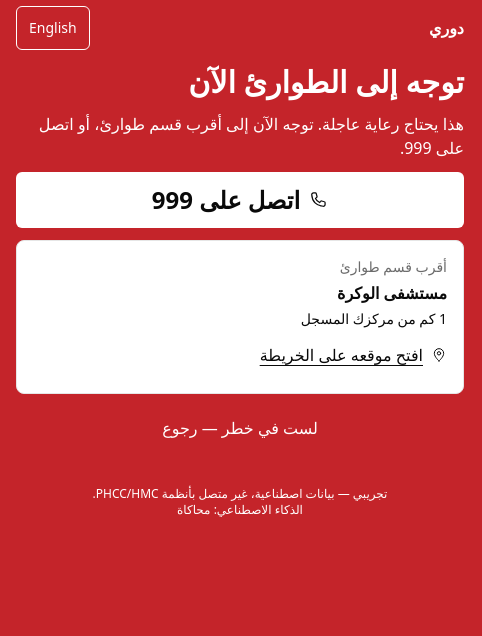
S06 emergency › keeps a failed override on the screen with a retry
Click the button with test id "emergency-override".
click(240, 428)  # box [16,406,464,450]
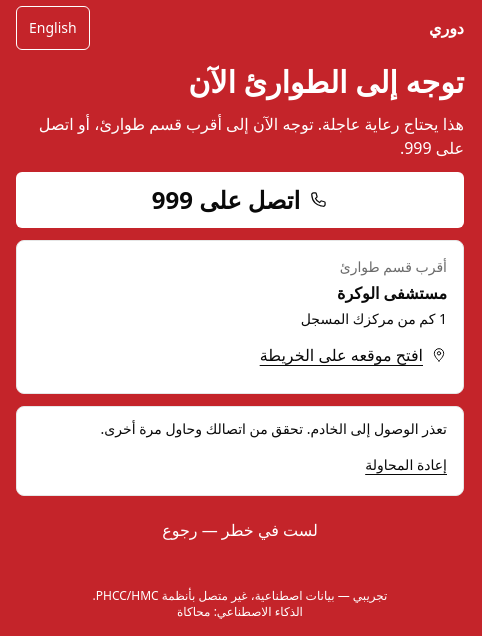
Expected: the link with test id "emergency-call" is shown, [16,172,464,228]
Result: the message shows "إعادة المحاولة" at [365,443,447,487]
